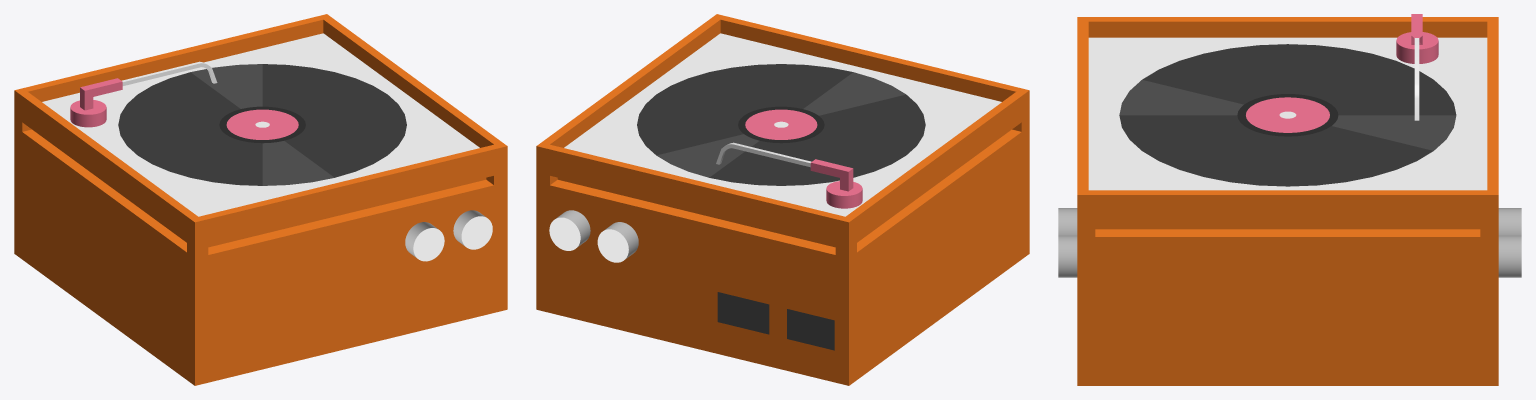
The model's file is cd_min.obj.
3 renders of one model, left to right at view 1: azimuth 30°, elevation 25°; view 2: azimuth 150°, elevation 25°; view 3: azimuth 270°, elevation 25°, orthographic. The views are drawn at different scales.
Parts seen in each view (by area): view 1: jishen, cd4, kaiguan, cd2, zhi, cd3, zhuzi11; view 2: jishen, cd4, kaiguan, cd2, zhi, cd3, zhuzi11; view 3: jishen, cd4, kaiguan, cd2, cd3, zhuzi11, zhi.
Part boxes in pixels (x1,y1,x2,y2): jishen: (14, 14, 507, 385); cd4: (118, 64, 406, 185); kaiguan: (405, 210, 492, 261); cd2: (226, 109, 298, 139); zhi: (80, 61, 217, 110); cd3: (219, 106, 305, 143); zhuzi11: (70, 100, 106, 127); jishen: (536, 14, 1029, 385); cd4: (637, 64, 925, 185); kaiguan: (549, 210, 638, 262); cd2: (745, 109, 817, 139); zhi: (716, 142, 853, 191); cd3: (738, 106, 824, 143); zhuzi11: (826, 181, 862, 208); jishen: (1077, 17, 1498, 385); cd4: (1119, 44, 1456, 186); kaiguan: (1058, 208, 1521, 277); cd2: (1246, 97, 1329, 132); cd3: (1237, 94, 1338, 136); zhuzi11: (1396, 32, 1438, 63); zhi: (1411, 14, 1422, 120).
Size of the model in its own units: 10 by 5.57 by 11.
